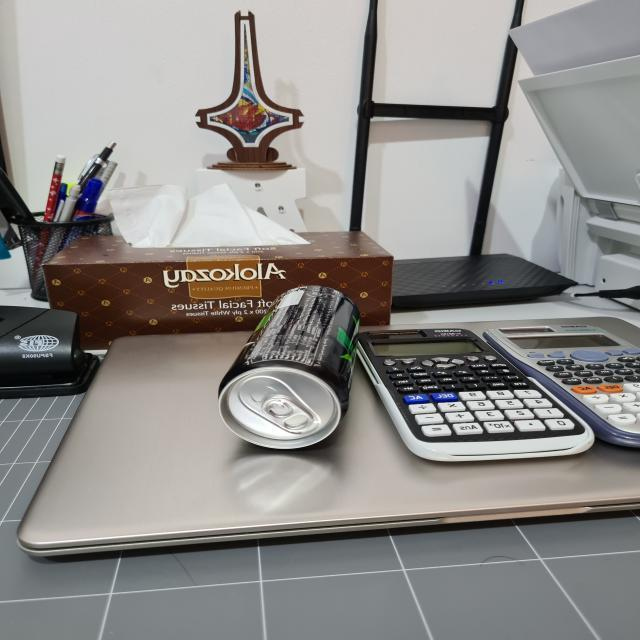can: (212, 282, 362, 454)
